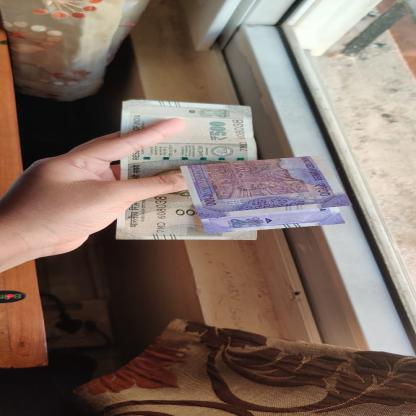New100Back: (178, 155, 354, 234)
New500Front: (115, 99, 259, 241)
